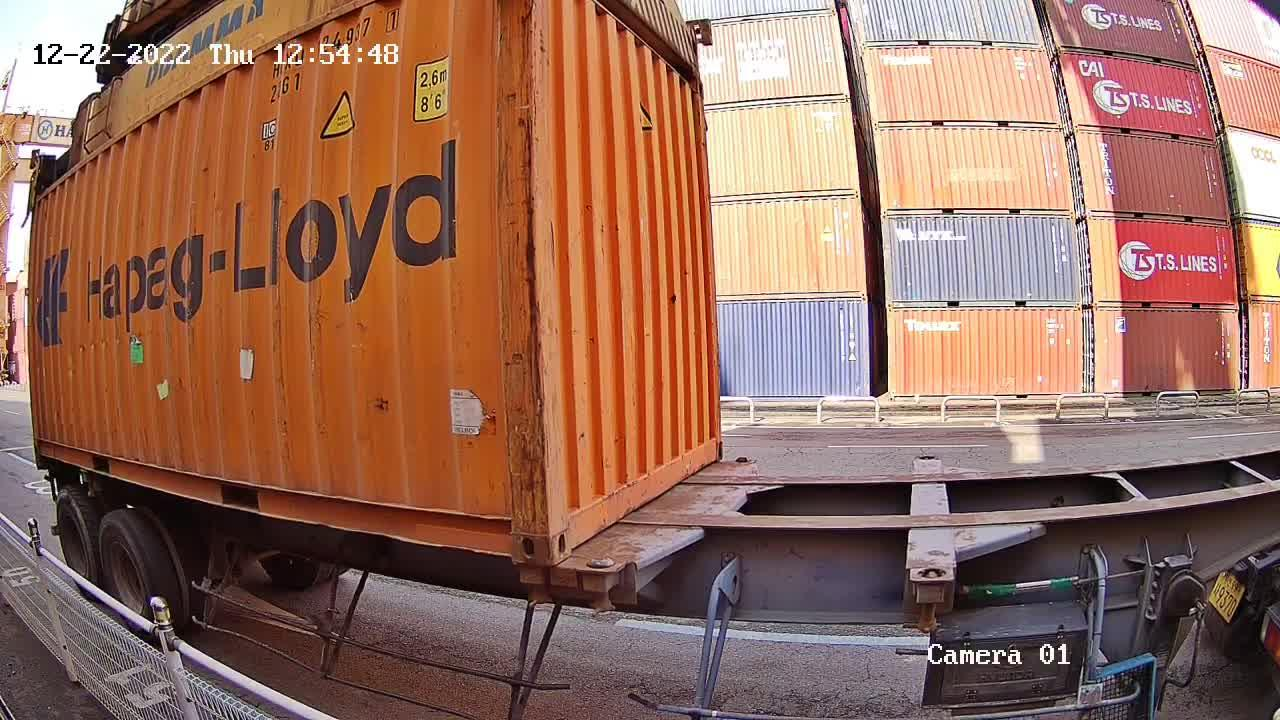Chassis: (586, 454, 756, 575)
Cone: (583, 558, 621, 617), (514, 561, 549, 607)
Hole_L: (549, 483, 592, 566)
Hole_R: (482, 500, 549, 562), (688, 421, 725, 472)
Tire: (97, 516, 159, 616), (55, 495, 93, 573)
